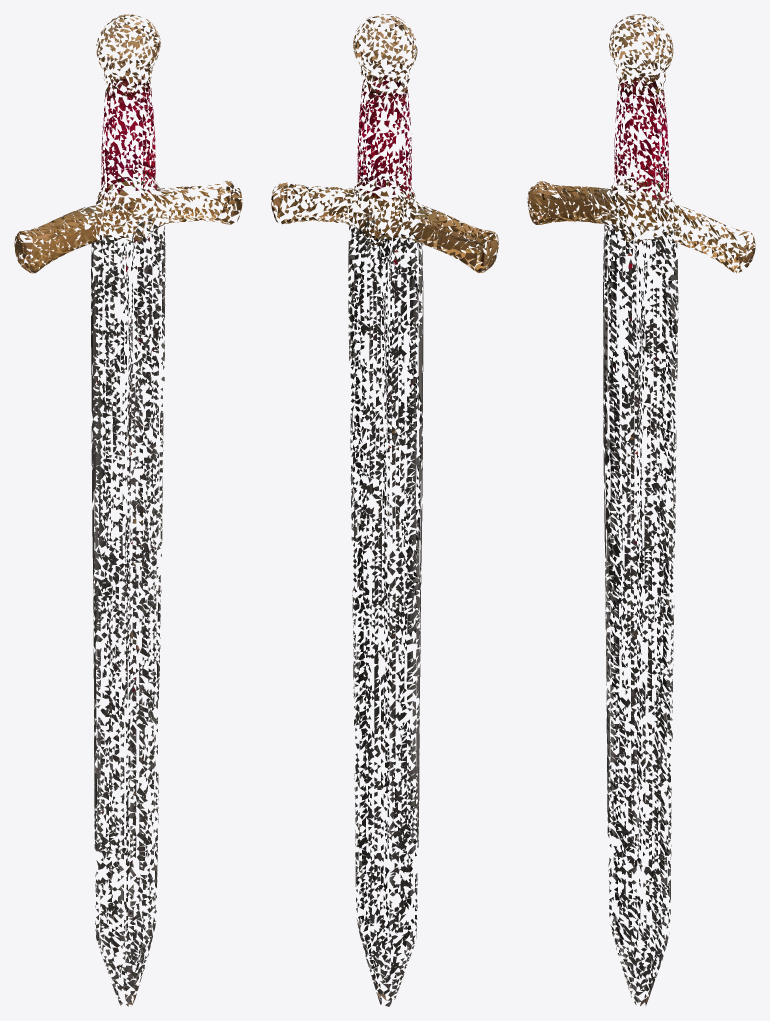
File: b_longsword.glb
The picture shows the model from 3 angles, left to right: view 1: azimuth 30°, elevation 25°; view 2: azimuth 150°, elevation 25°; view 3: azimuth 330°, elevation 25°; orthographic projection.
Parts seen in each view (by area): view 1: shape_clean_textured; view 2: shape_clean_textured; view 3: shape_clean_textured.
Boxes of the visible parts, bbox=[...] form: shape_clean_textured: bbox=[14, 14, 242, 1006]; shape_clean_textured: bbox=[271, 14, 498, 1006]; shape_clean_textured: bbox=[527, 14, 755, 1005].
Size of the model in its own units: 0.4602 by 1.99 by 0.0973.
Materials: 1 (1 with a texture image).
